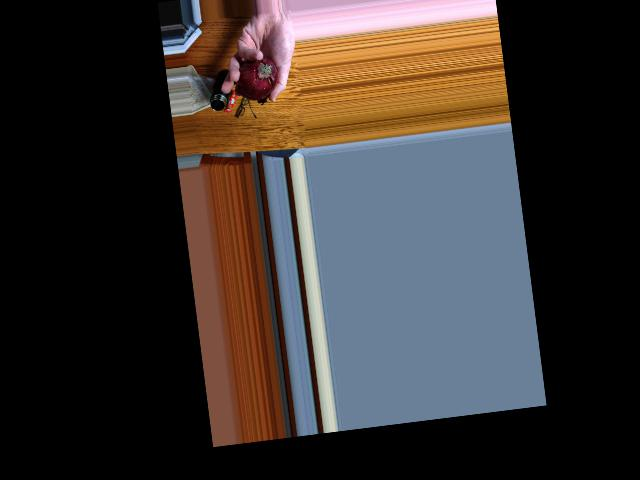onion: (237, 54, 280, 100)
